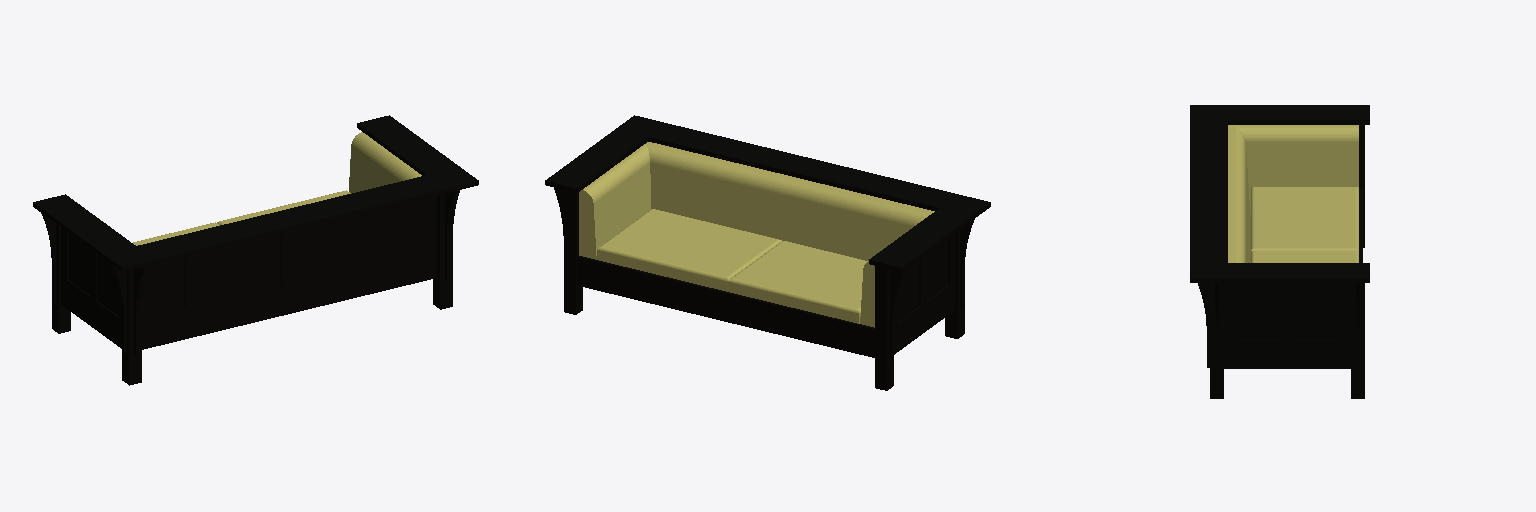
The model's file is sofa2.obj.
The picture shows the model from 3 angles: view 1: azimuth 30°, elevation 25°; view 2: azimuth 150°, elevation 25°; view 3: azimuth 270°, elevation 25°; orthographic projection.
Visible parts, largest first — view 1: sofa2; view 2: sofa2; view 3: sofa2.
Boxes of the visible parts, x1,y1,x2,y2 form: sofa2: [33, 115, 478, 385]; sofa2: [545, 115, 990, 390]; sofa2: [1190, 105, 1369, 398].
Size of the model in its own units: 2.15 by 0.7414 by 0.9335.